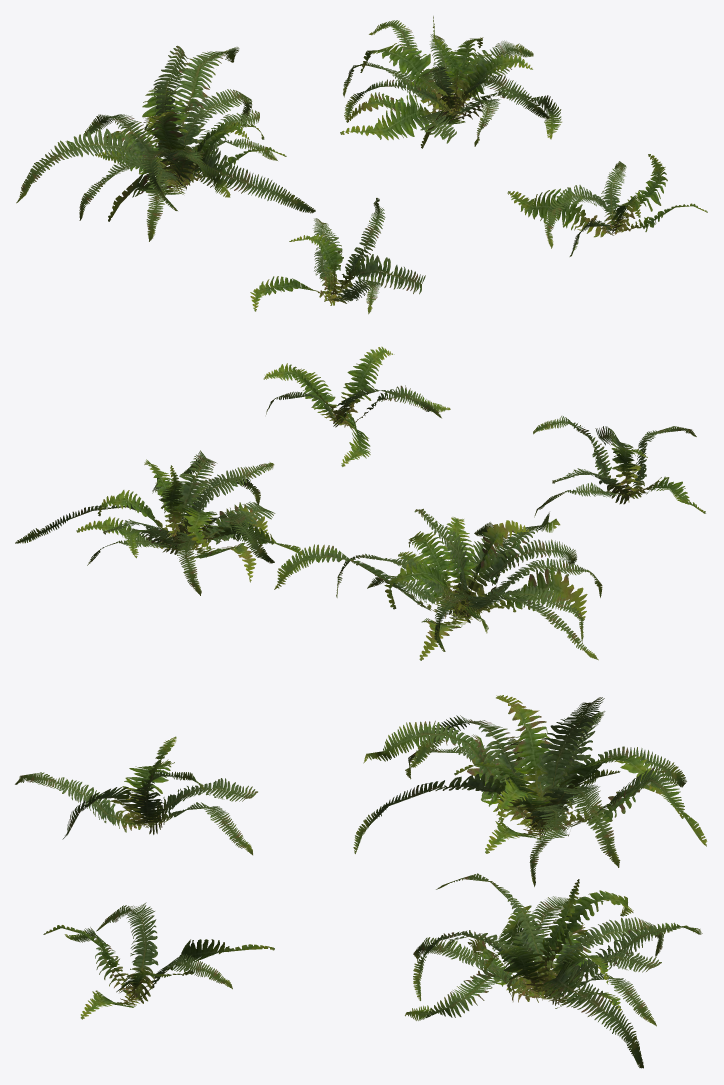
Rendered from fern.glb.
The picture shows the model from 3 angles, top to bottom: view 1: azimuth 30°, elevation 25°; view 2: azimuth 150°, elevation 25°; view 3: azimuth 270°, elevation 25°; orthographic projection. The views are drawn at different scales.
Visible parts, largest first — view 1: fern_02_b, fern_02_c, fern_02_a, fern_02_d; view 2: fern_02_b, fern_02_c, fern_02_d, fern_02_a; view 3: fern_02_b, fern_02_c, fern_02_a, fern_02_d.
Boxes of the visible parts, left/top/right/bottom form: fern_02_b: left=16, top=45, right=315, bottom=241; fern_02_c: left=340, top=16, right=561, bottom=148; fern_02_a: left=250, top=198, right=425, bottom=314; fern_02_d: left=507, top=154, right=707, bottom=256; fern_02_b: left=274, top=508, right=602, bottom=660; fern_02_c: left=15, top=450, right=302, bottom=595; fern_02_d: left=263, top=346, right=450, bottom=466; fern_02_a: left=533, top=416, right=705, bottom=517; fern_02_b: left=353, top=695, right=707, bottom=886; fern_02_c: left=405, top=873, right=702, bottom=1068; fern_02_a: left=15, top=736, right=257, bottom=855; fern_02_d: left=43, top=902, right=274, bottom=1019.
Bounding box in the file's own units: 1.97 × 0.4277 × 1.72.
1 material, 1 textured.
